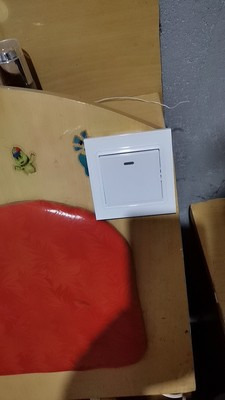switch: (93, 143, 172, 206)
